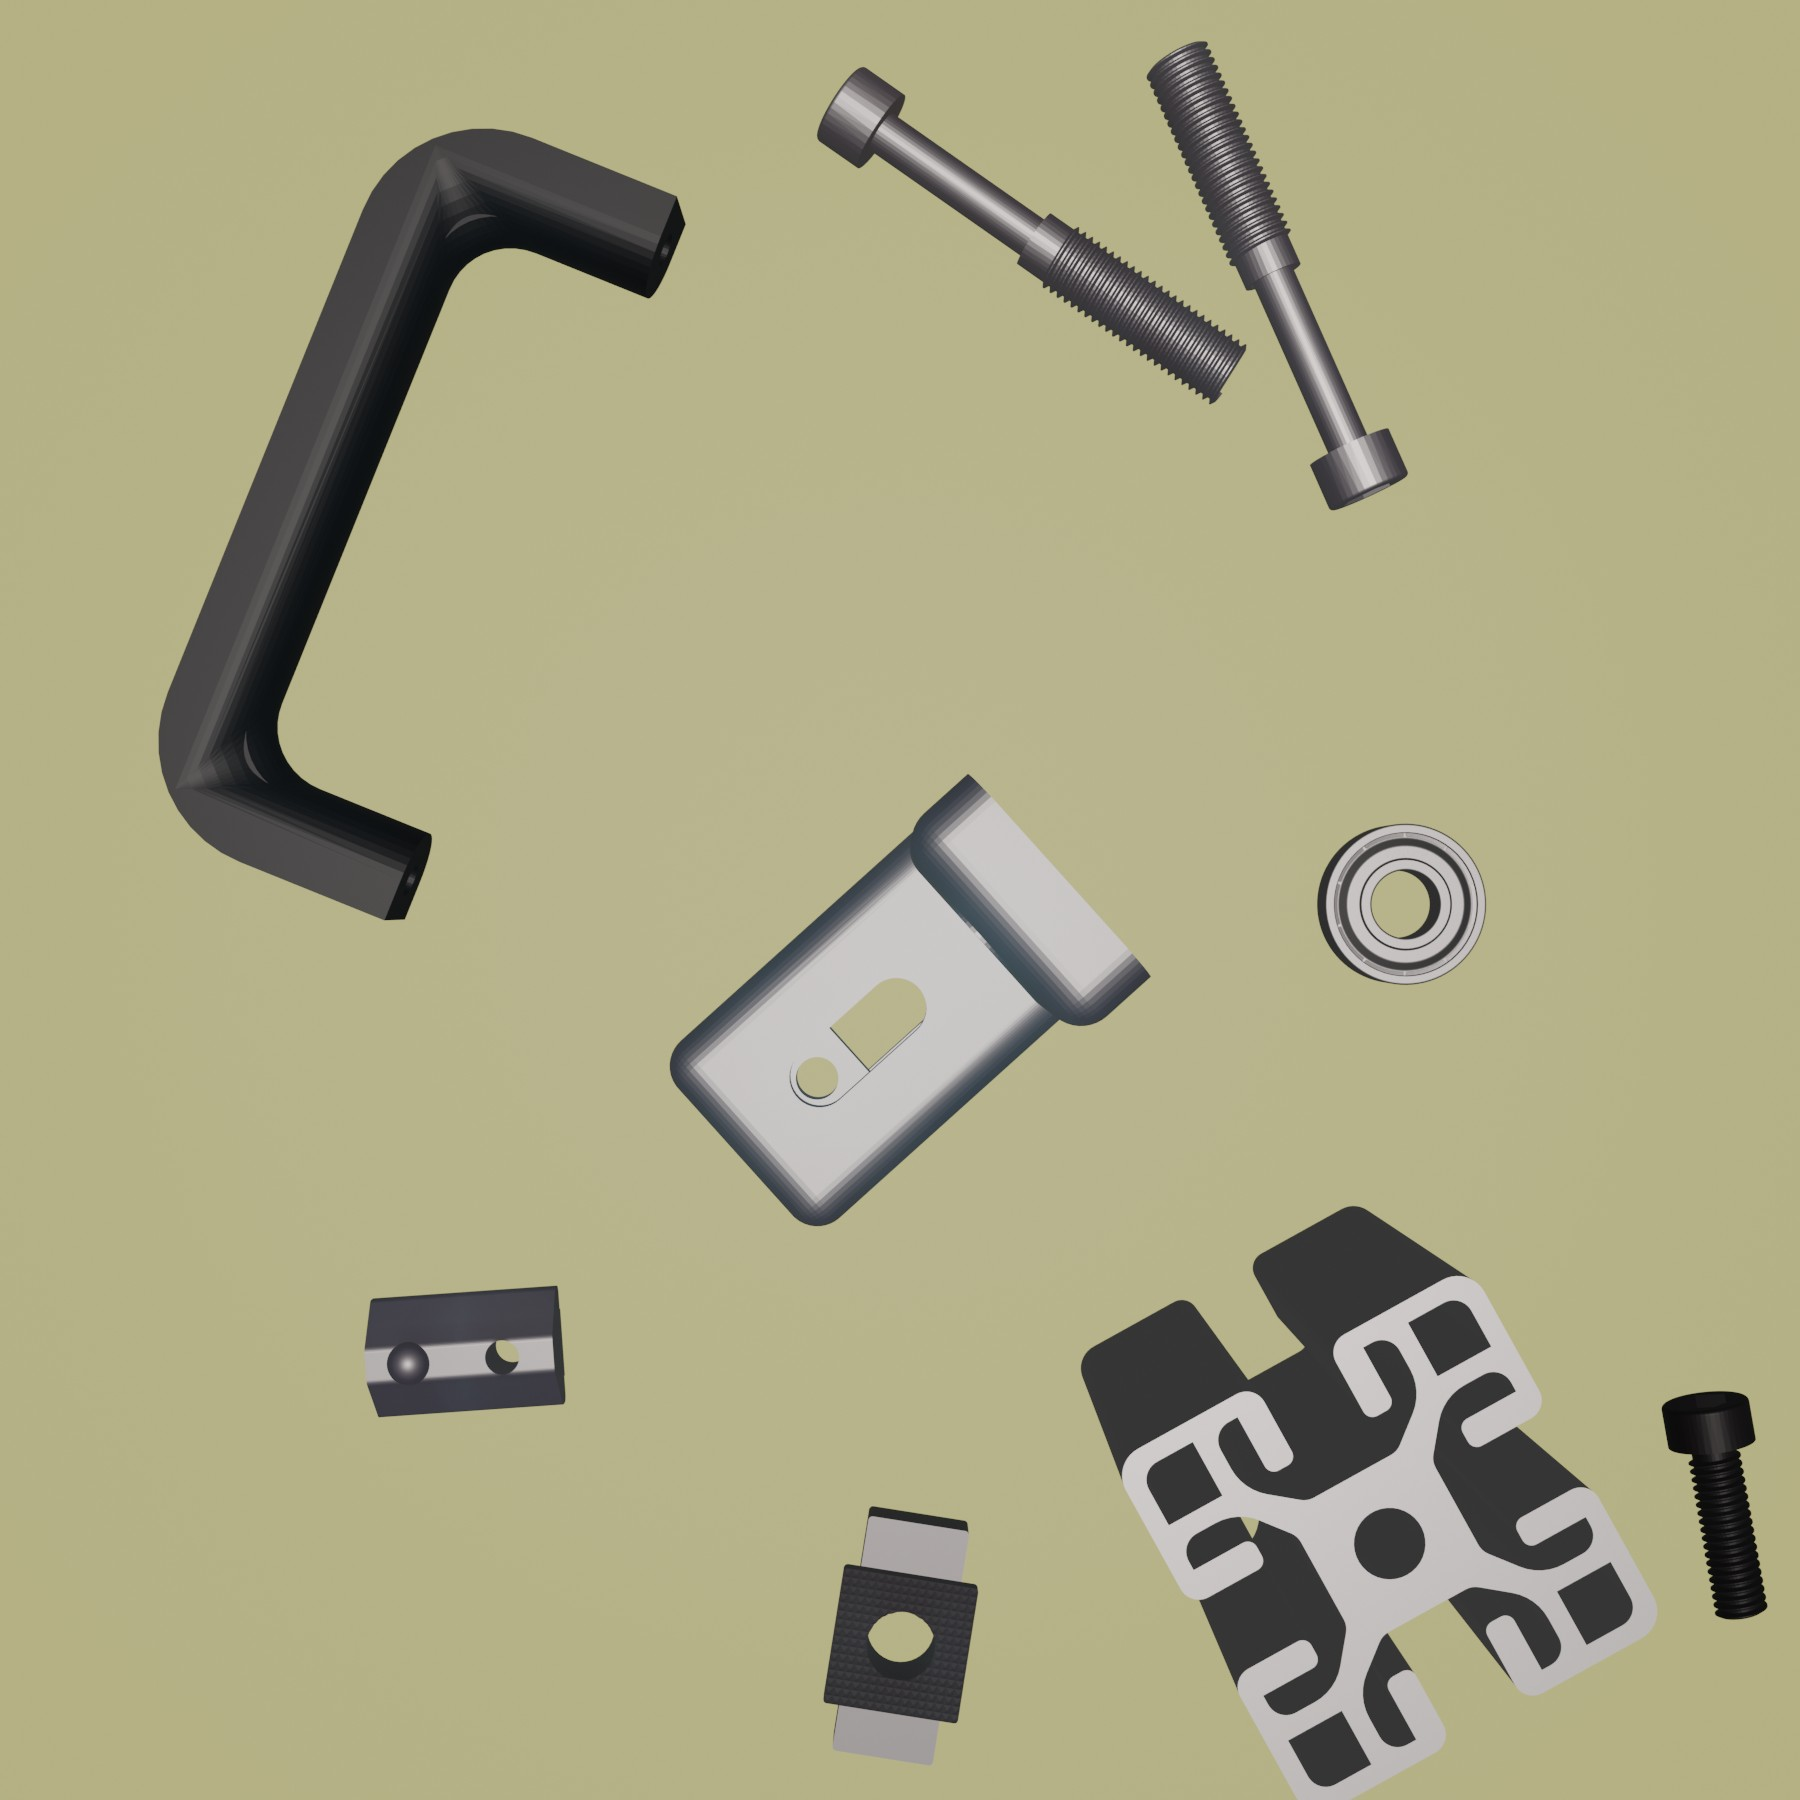Aluminium Extension: (1076, 1203, 1663, 1800)
Ball Bearing: (1314, 819, 1488, 987)
Multiwinkel: (668, 771, 1155, 1230)
Pull Handle: (157, 124, 686, 925)
Shoulder Socket Head Cap Screw: (811, 64, 1249, 407), (1144, 36, 1411, 514)
Socket Head Cap Screw: (1657, 1388, 1770, 1624)
T Nut Square: (819, 1500, 982, 1770)
T Spring Nut: (359, 1281, 569, 1423)
